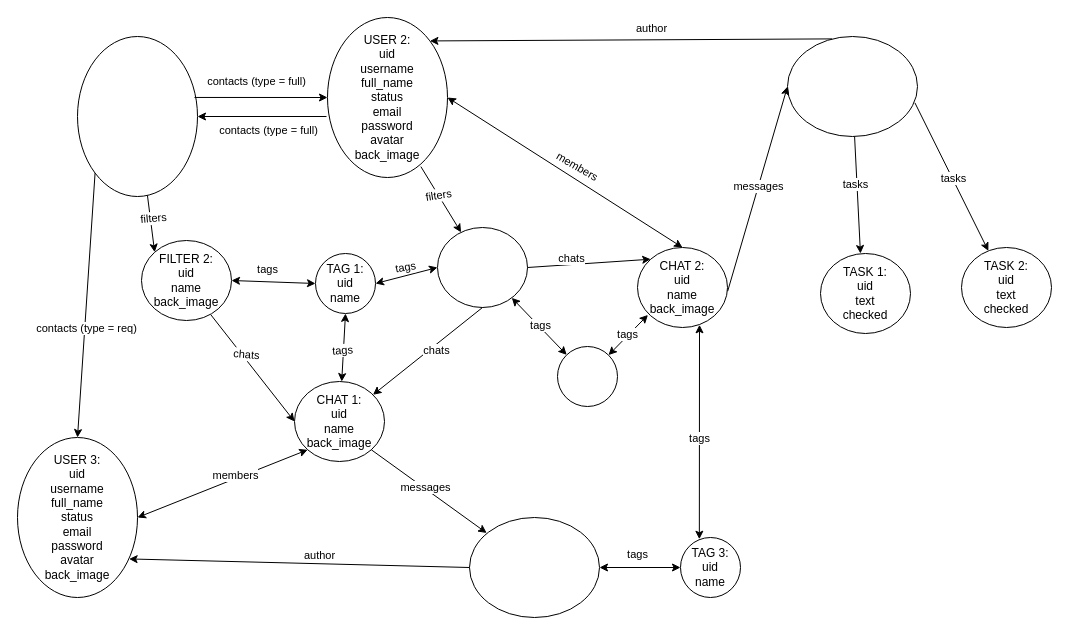
Some shapes in this 1069 by 635 pixel diagram are drawn without their labels. Here are the shapes that lost their labels. From the top down, the box of each, then its label:
(786, 36, 918, 136): MESSAGE 1: uid text date notify_date read
(76, 36, 198, 196): USER 1: uid username full_name status email password avatar back_image
(436, 226, 528, 308): FILTER 1: uid name back_image
(556, 346, 618, 406): TAG 2: uid name
(468, 516, 600, 618): MESSAGE 2: uid text date notify_date read
